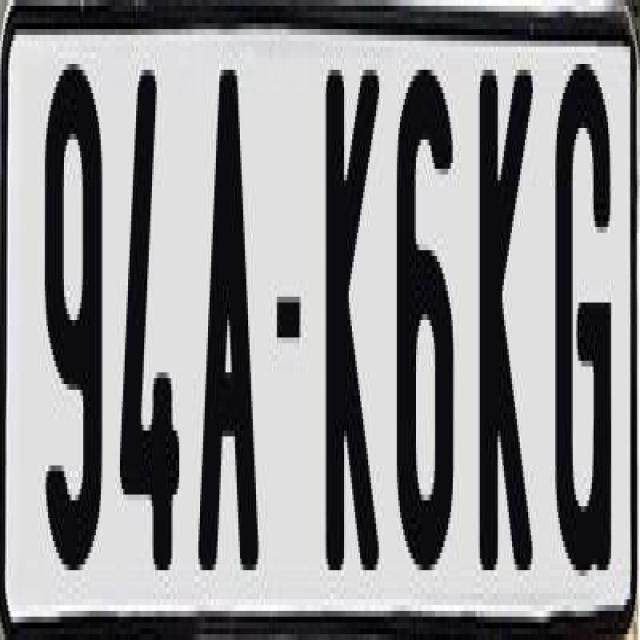4: (119, 58, 182, 559)
6: (392, 70, 451, 606)
9: (44, 52, 108, 564)
A: (198, 52, 264, 588)
G: (552, 58, 611, 582)
K: (480, 70, 538, 594), (322, 58, 381, 570)
